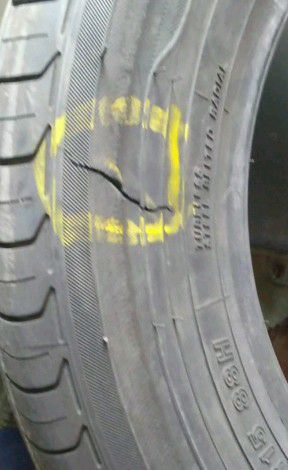cut: (68, 154, 167, 213)
